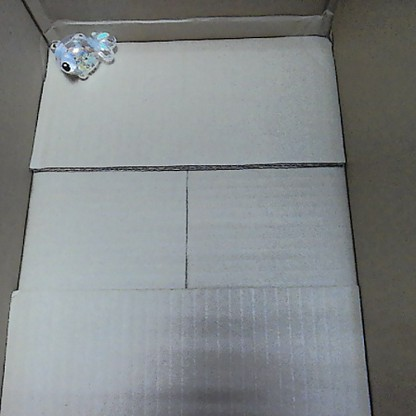whitefish: (43, 26, 119, 79)
